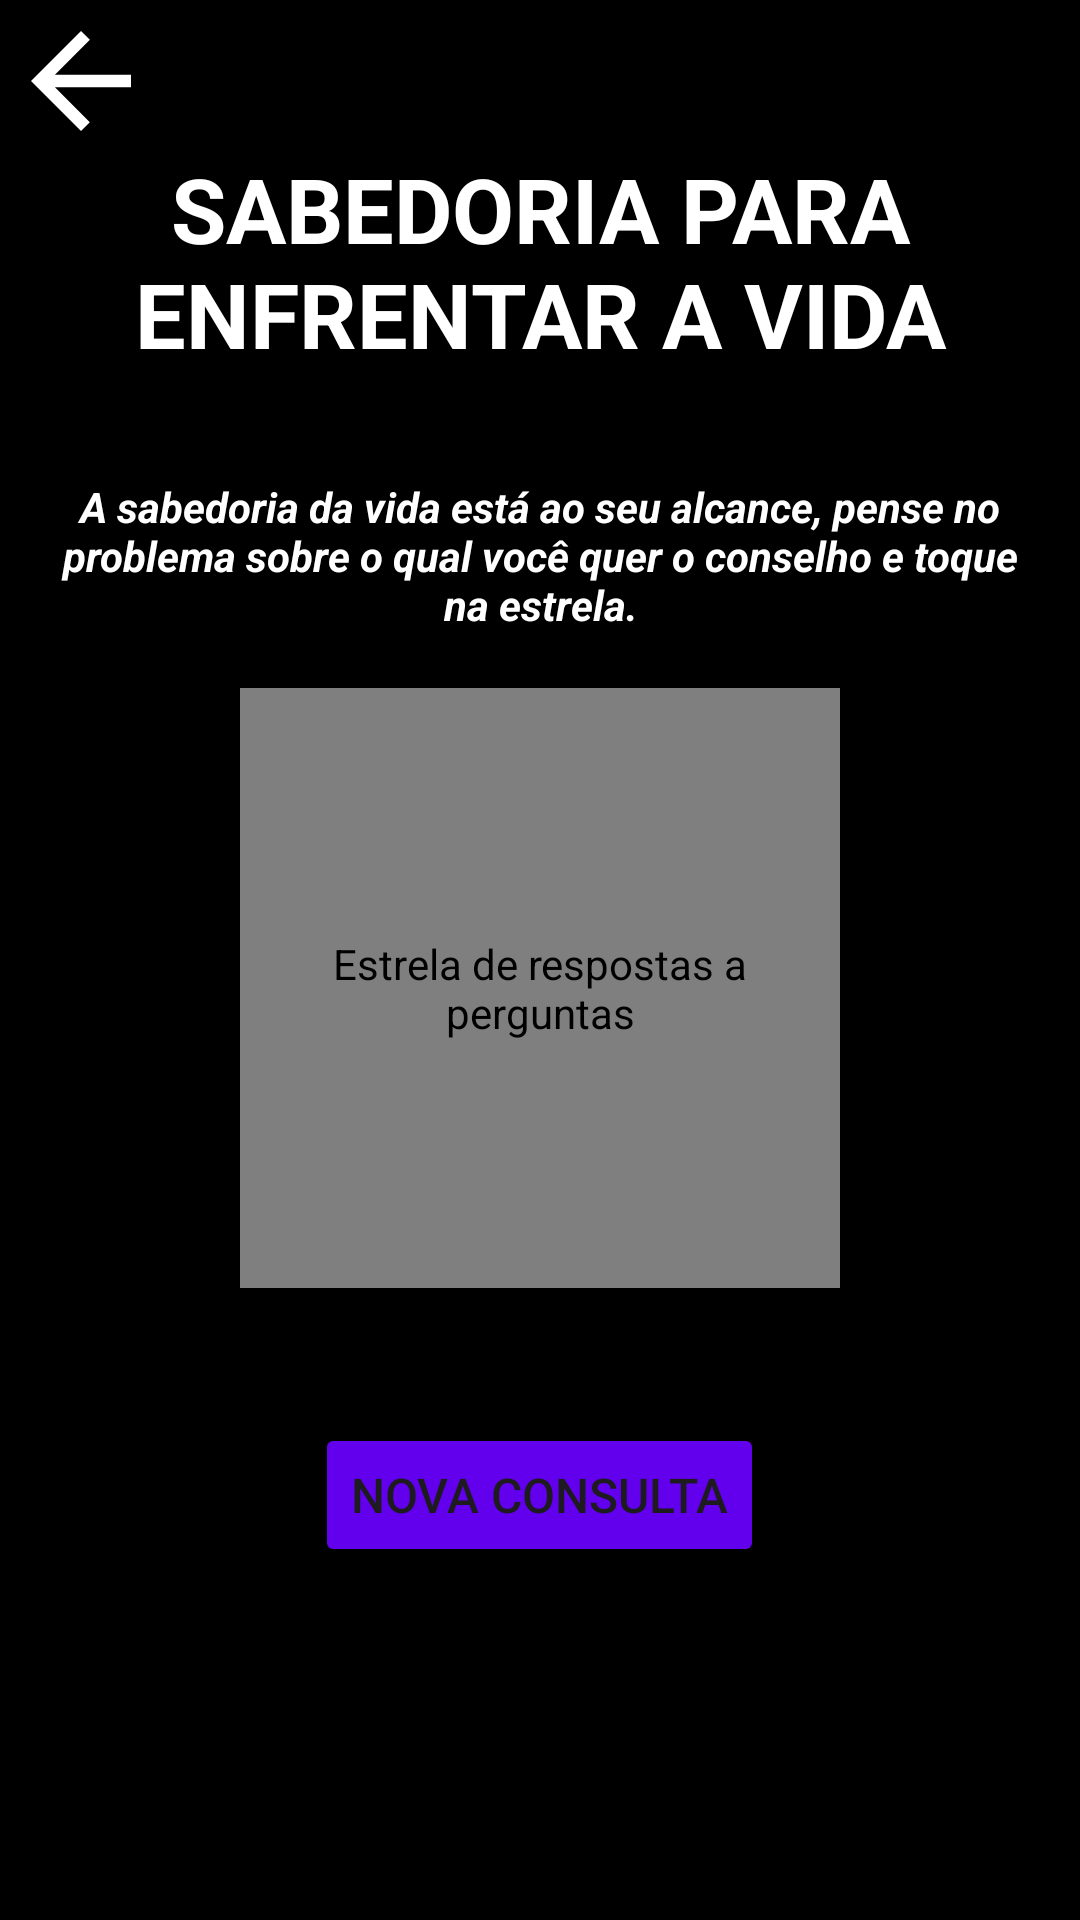

Where to tap for icons on this 1080w x 1920h app screen, as point (x, y):
Voltar para a tela anterior: point (81, 81)
